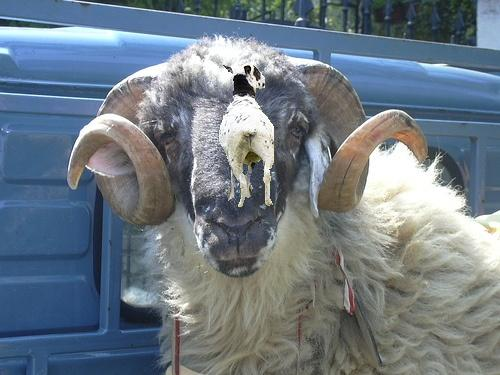tampered: (220, 64, 274, 207)
